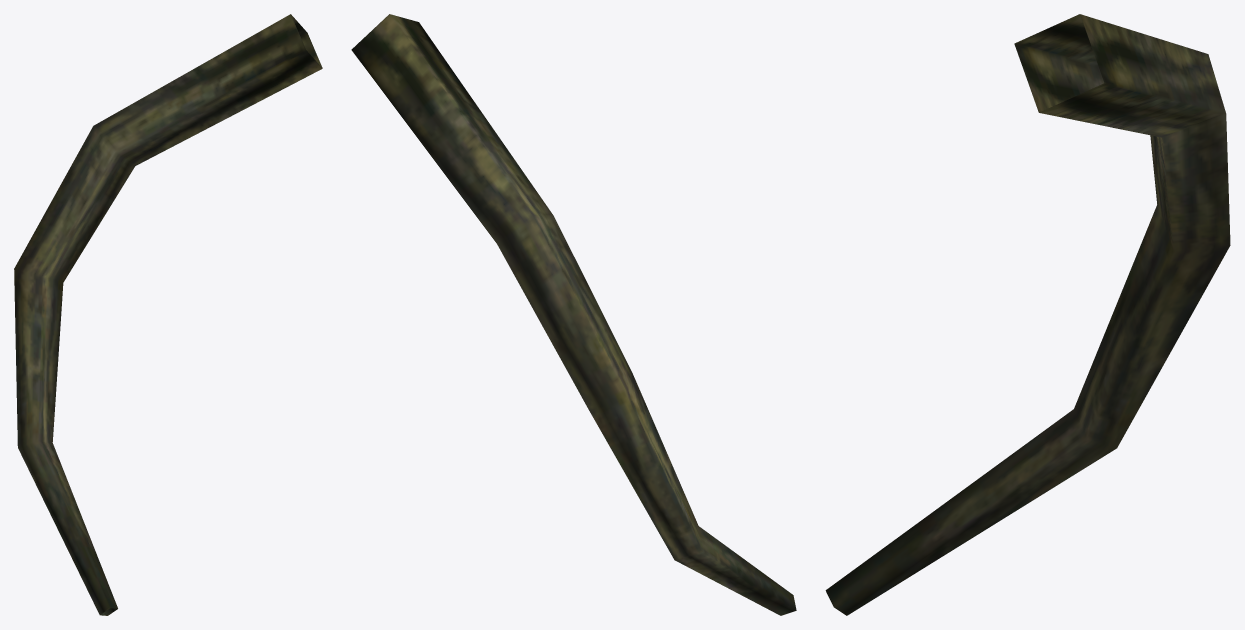
The model's file is OVERHILL_A_01_LINE341.fbx.
3 renders of one model, left to right at view 1: azimuth 30°, elevation 25°; view 2: azimuth 150°, elevation 25°; view 3: azimuth 270°, elevation 25°, orthographic. The views are drawn at different scales.
Visible parts, largest first — view 1: OVERHILL_A_01_LINE341; view 2: OVERHILL_A_01_LINE341; view 3: OVERHILL_A_01_LINE341.
Part boxes in pixels (box(x1,y1,x2,y2)): OVERHILL_A_01_LINE341: box(14, 14, 322, 615); OVERHILL_A_01_LINE341: box(351, 14, 796, 615); OVERHILL_A_01_LINE341: box(825, 14, 1230, 615).
Size of the model in its own units: 7170 by 11548 by 5258.
1 material, 1 textured.
